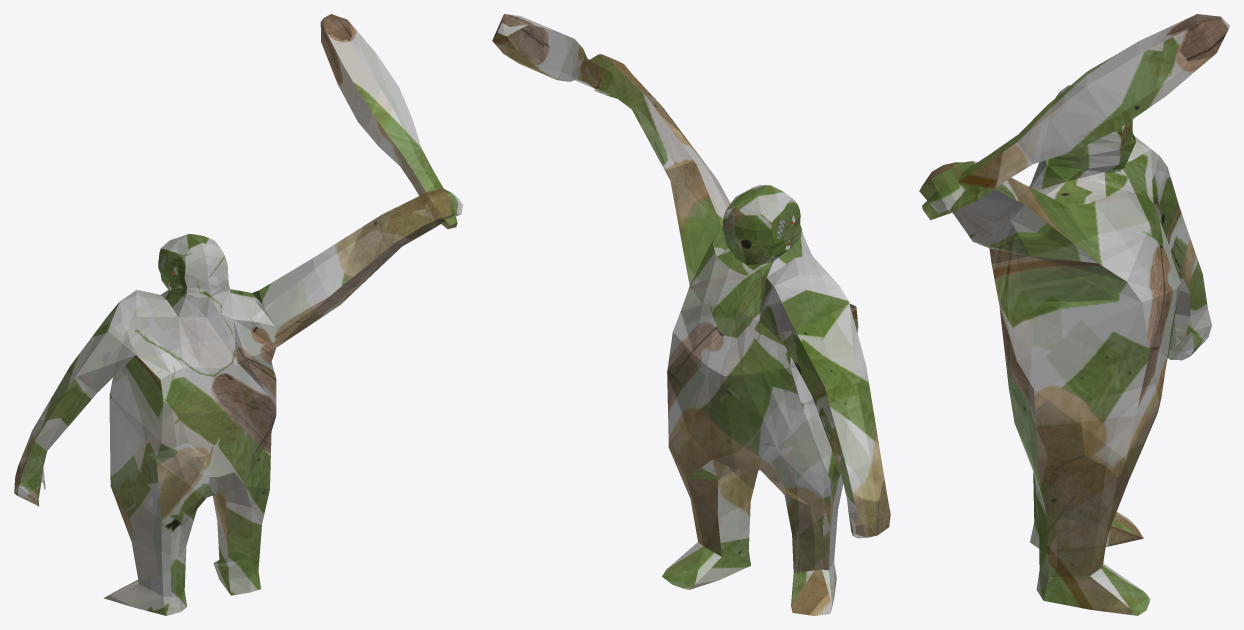
The model's file is Enemigo211.obj.
3 renders of one model, left to right at view 1: azimuth 30°, elevation 25°; view 2: azimuth 150°, elevation 25°; view 3: azimuth 270°, elevation 25°, orthographic. The views are drawn at different scales.
Parts seen in each view (by area): view 1: Cube; view 2: Cube; view 3: Cube.
Boxes of the visible parts, left/top/right/bottom form: Cube: left=14, top=14, right=463, bottom=615; Cube: left=492, top=14, right=890, bottom=615; Cube: left=919, top=14, right=1229, bottom=615.
Bounding box in the file's own units: 2.88 × 3.77 × 1.57.
Materials: 1 (1 with a texture image).
